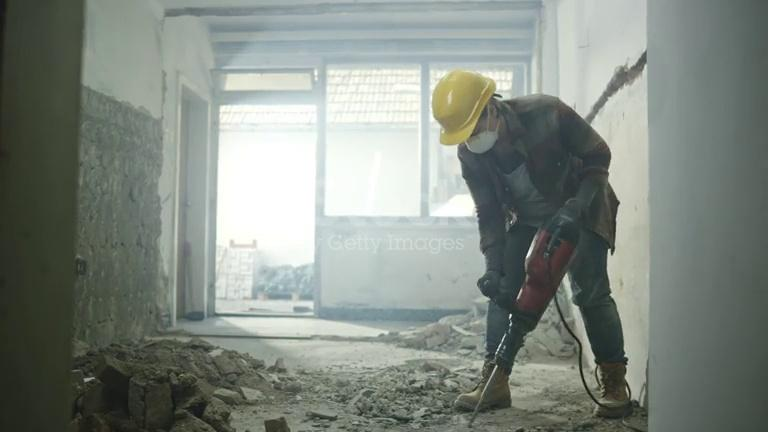helmet: (432, 70, 496, 146)
mask: (462, 129, 499, 154)
person: (430, 68, 633, 420)
